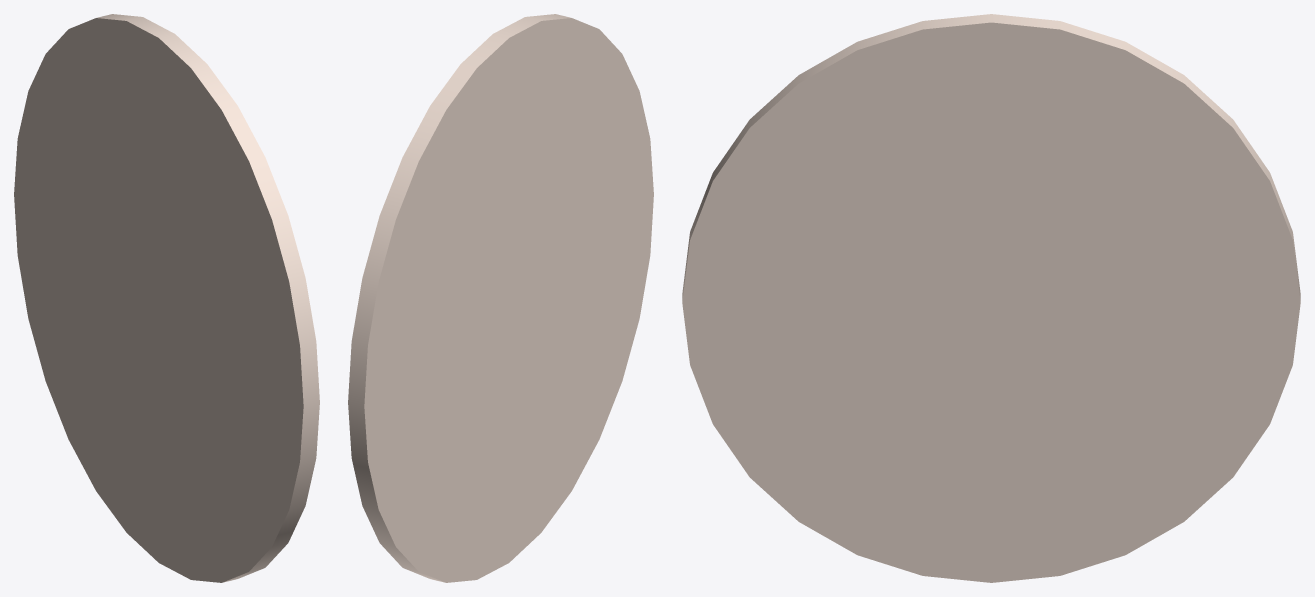
Rendered from tympanic_membrane.glb.
3 renders of one model, left to right at view 1: azimuth 30°, elevation 25°; view 2: azimuth 150°, elevation 25°; view 3: azimuth 270°, elevation 25°, orthographic. The views are drawn at different scales.
Visible parts, largest first — view 1: SAMPLE tympanic_membrane; view 2: SAMPLE tympanic_membrane; view 3: SAMPLE tympanic_membrane.
Boxes of the visible parts, x1,y1,x2,y2 form: SAMPLE tympanic_membrane: (14,14,319,582); SAMPLE tympanic_membrane: (348,14,653,582); SAMPLE tympanic_membrane: (682,14,1300,582).
Size of the model in its own units: 0.28 by 8.6 by 8.6.
